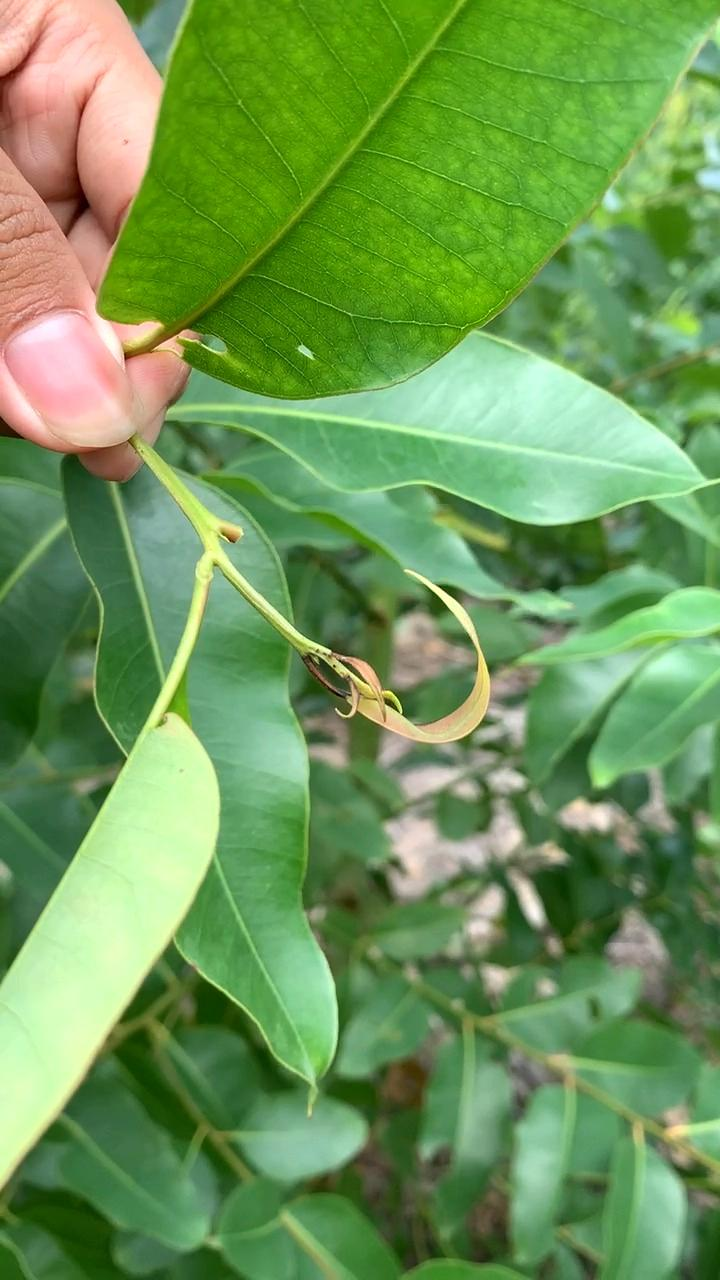Helopeltis-Withered Sprout: (328, 618, 497, 757)
